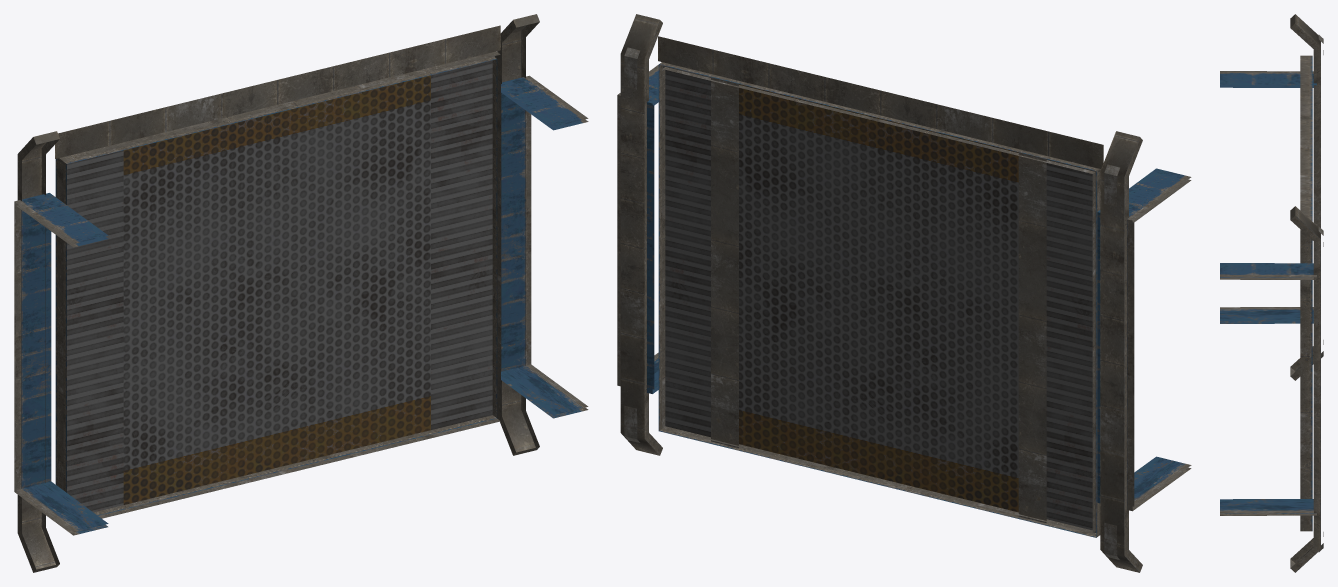
File: ARC0910260.fbx
The picture shows the model from 3 angles, left to right: view 1: azimuth 30°, elevation 25°; view 2: azimuth 150°, elevation 25°; view 3: azimuth 270°, elevation 25°; orthographic projection. The views are drawn at different scales.
Visible parts, largest first — view 1: smARC0910260; view 2: smARC0910260; view 3: smARC0910260.
Boxes of the visible parts, bbox=[...] form: smARC0910260: bbox=[14, 14, 588, 572]; smARC0910260: bbox=[617, 14, 1191, 572]; smARC0910260: bbox=[1220, 14, 1323, 572].
Bounding box in the file's own units: 363 × 294 × 77.27.
Materials: 1 (1 with a texture image).
